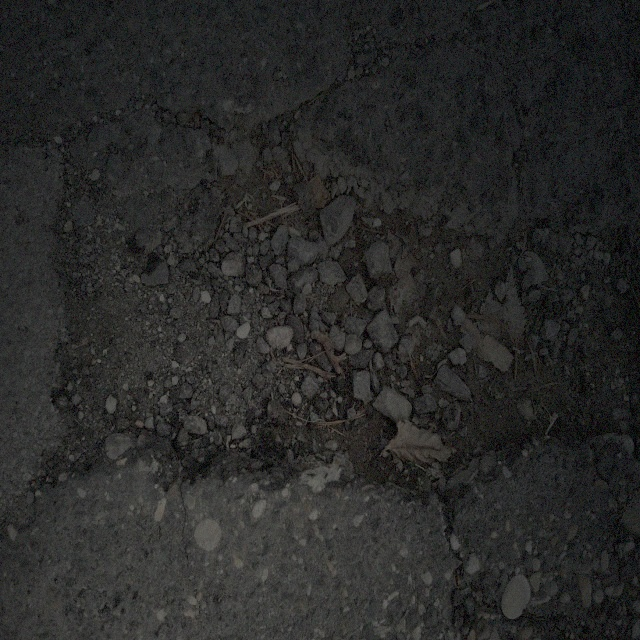pothole: (42, 102, 564, 527)
